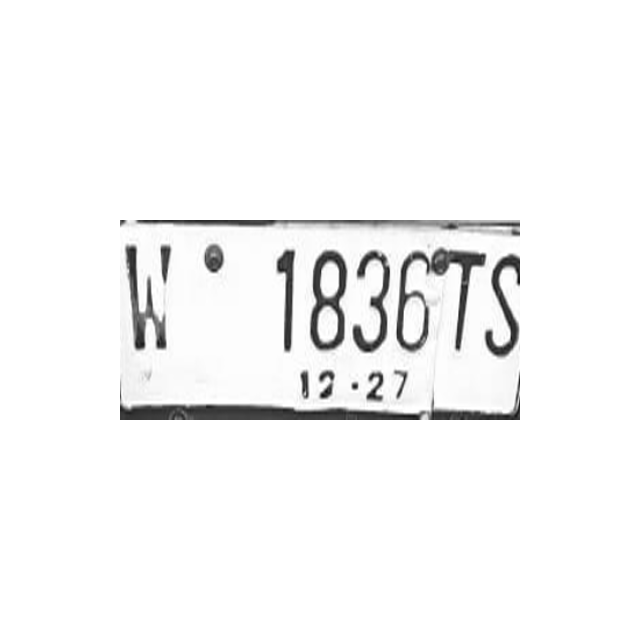contain: (123, 237, 177, 354), (246, 240, 300, 357), (299, 240, 353, 357), (343, 238, 392, 361), (391, 237, 438, 362), (441, 239, 485, 366), (484, 240, 519, 367)
